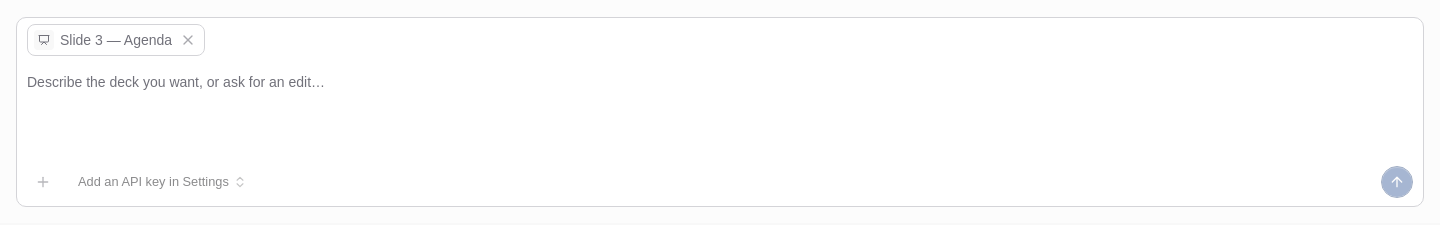
ChatPanel submit control › includes slide context in armed keyboard removal
Later steps or results of the test are not shown.
Click the text box with placeholder "Describe the deck you want, or ask for an edit…": [720, 112] box [17,64,1423,160]
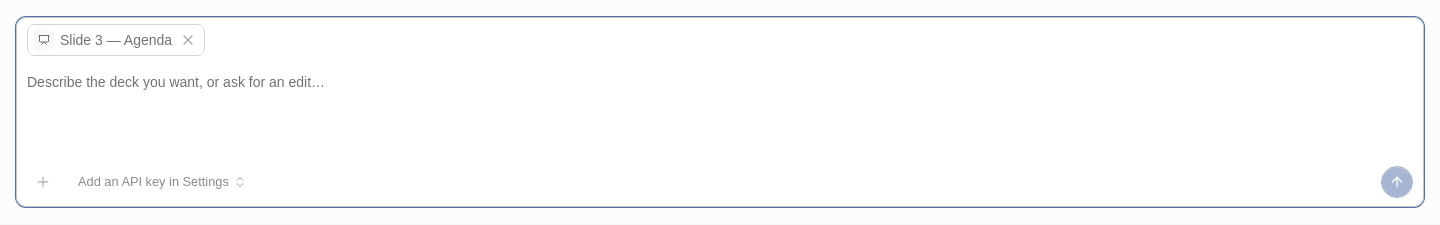
Press Backspace
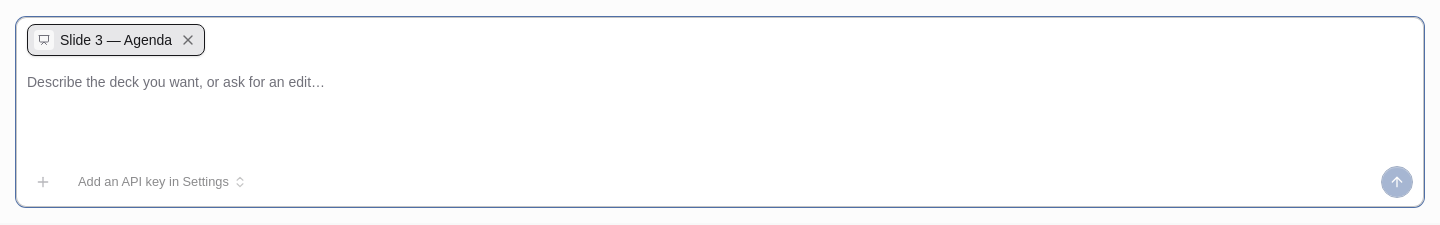
Now the text "Slide 3 — Agenda" has attribute data-armed="true", box [27,24,205,56]
